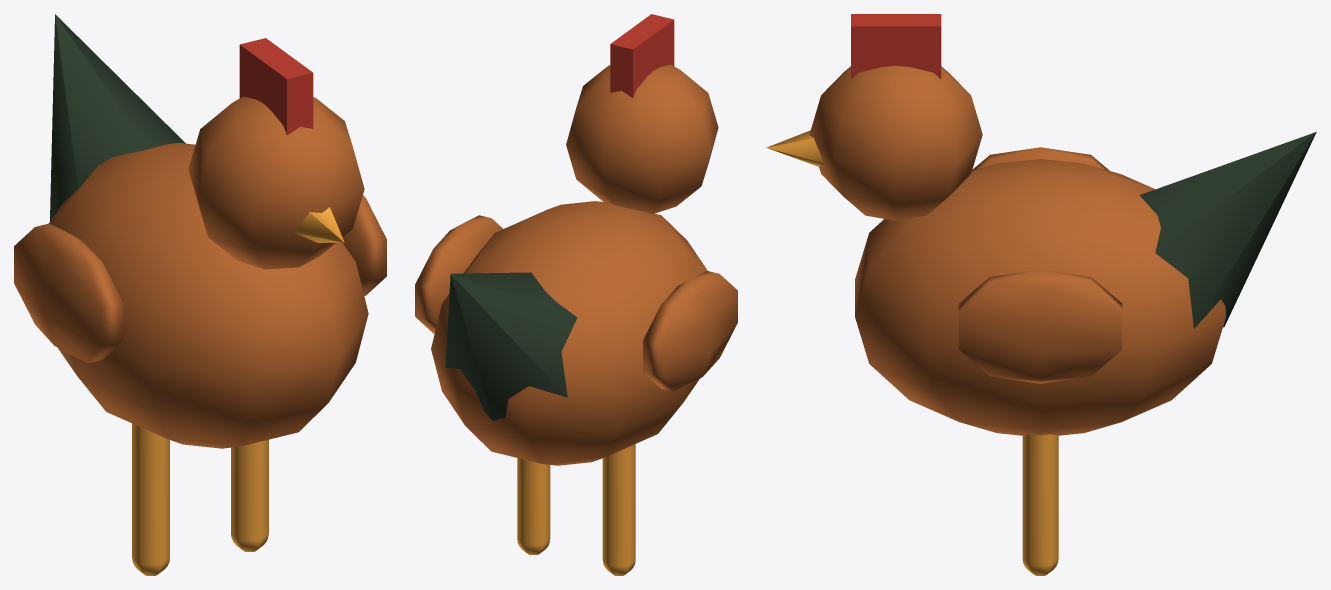
Rendered from ga_nau.glb.
3 renders of one model, left to right at view 1: azimuth 30°, elevation 25°; view 2: azimuth 150°, elevation 25°; view 3: azimuth 270°, elevation 25°, orthographic. The views are drawn at different scales.
Parts seen in each view (by area): view 1: Body, Head, ArmL, LegL, LegR, ArmR; view 2: Body, Head, ArmL, LegL, ArmR, LegR; view 3: Body, Head, ArmR, LegR, ArmL.
Part boxes in pixels (x1,y1,x2,y2): Body: [49, 14, 368, 448]; Head: [188, 38, 364, 269]; ArmL: [14, 223, 123, 363]; LegL: [132, 423, 169, 575]; LegR: [231, 439, 268, 551]; ArmR: [342, 195, 386, 295]; Body: [431, 201, 707, 465]; Head: [566, 14, 718, 214]; ArmL: [643, 271, 737, 391]; LegL: [602, 444, 635, 575]; ArmR: [415, 215, 502, 333]; LegR: [517, 458, 550, 554]; Body: [855, 132, 1316, 435]; Head: [766, 14, 982, 220]; ArmR: [958, 269, 1122, 383]; LegR: [1022, 434, 1058, 575]; ArmL: [972, 147, 1109, 170].
Size of the model in its own units: 0.0943 by 0.1625 by 0.1525.
